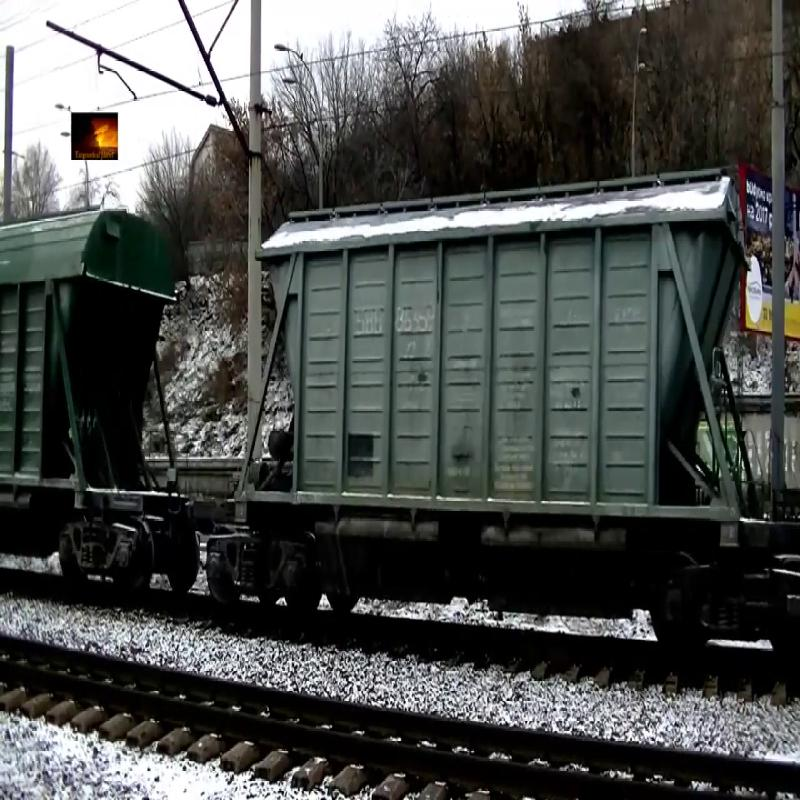train: (233, 166, 764, 572), (1, 200, 180, 542)
